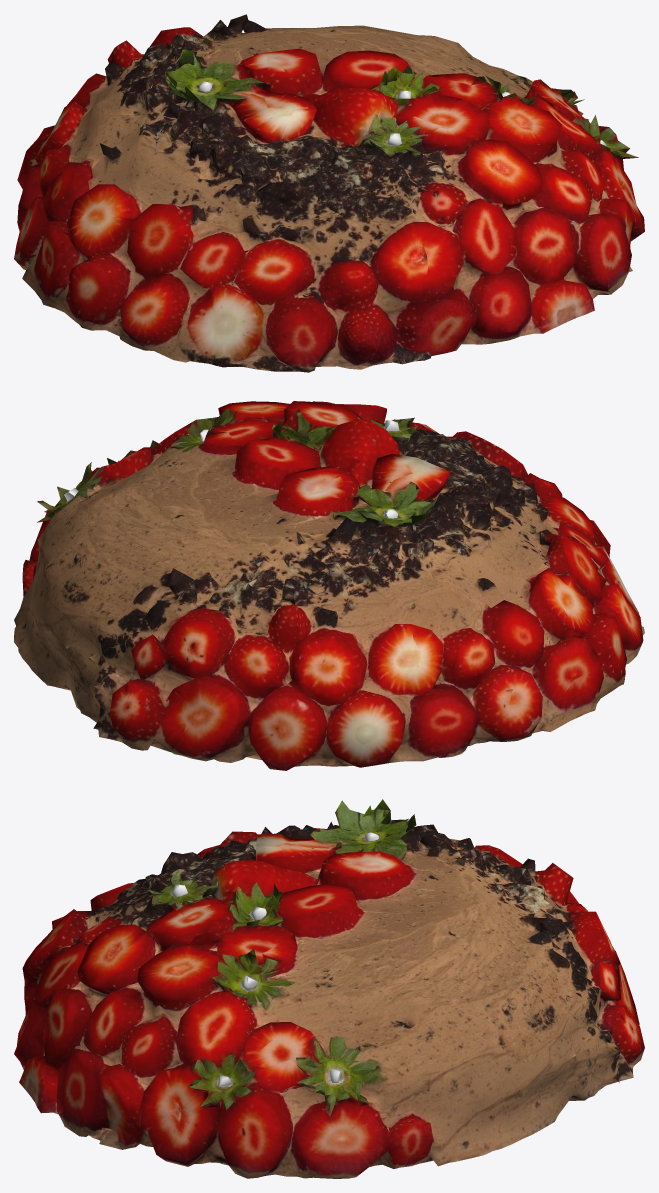
Rendered from cake.glb.
3 views of the same model, one above another, from view 1: azimuth 30°, elevation 25°; view 2: azimuth 150°, elevation 25°; view 3: azimuth 270°, elevation 25° (orthographic). The views are drawn at different scales.
Parts seen in each view (by area): view 1: cake; view 2: cake; view 3: cake.
Part boxes in pixels (x1,y1,x2,y2): cake: (14, 14, 644, 372); cake: (14, 401, 644, 770); cake: (14, 799, 644, 1178).
Size of the model in its own units: 0.2429 by 0.0781 by 0.24.
Materials: 1 (1 with a texture image).
